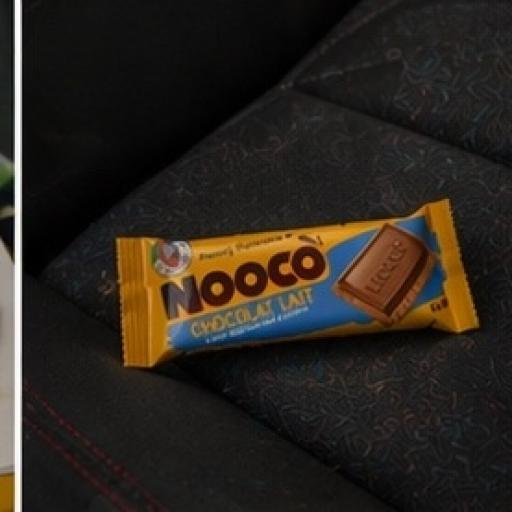nooco: (84, 166, 496, 396)
